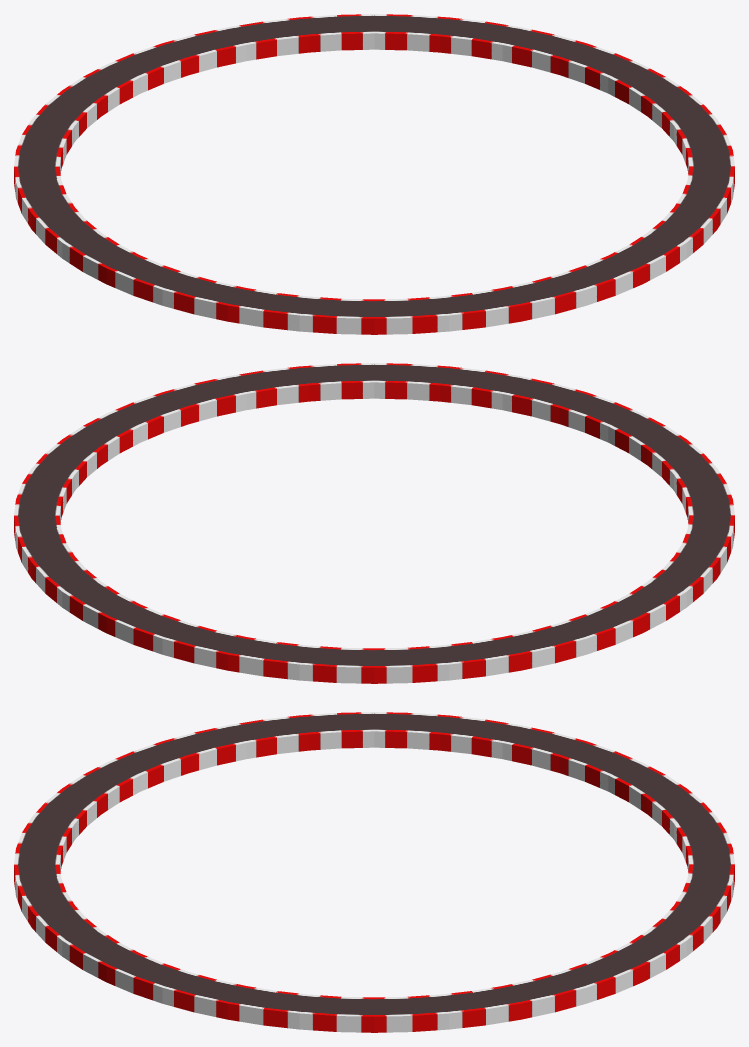
Rendered from F1_raceTrack.fbx.
The picture shows the model from 3 angles, top to bottom: view 1: azimuth 30°, elevation 25°; view 2: azimuth 150°, elevation 25°; view 3: azimuth 270°, elevation 25°; orthographic projection.
Parts seen in each view (by area): view 1: f1T; view 2: f1T; view 3: f1T.
Boxes of the visible parts, x1,y1,x2,y2 form: f1T: (14,14,734,334); f1T: (14,363,734,683); f1T: (14,712,734,1032).
Size of the model in its own units: 12620 by 315 by 12620.
